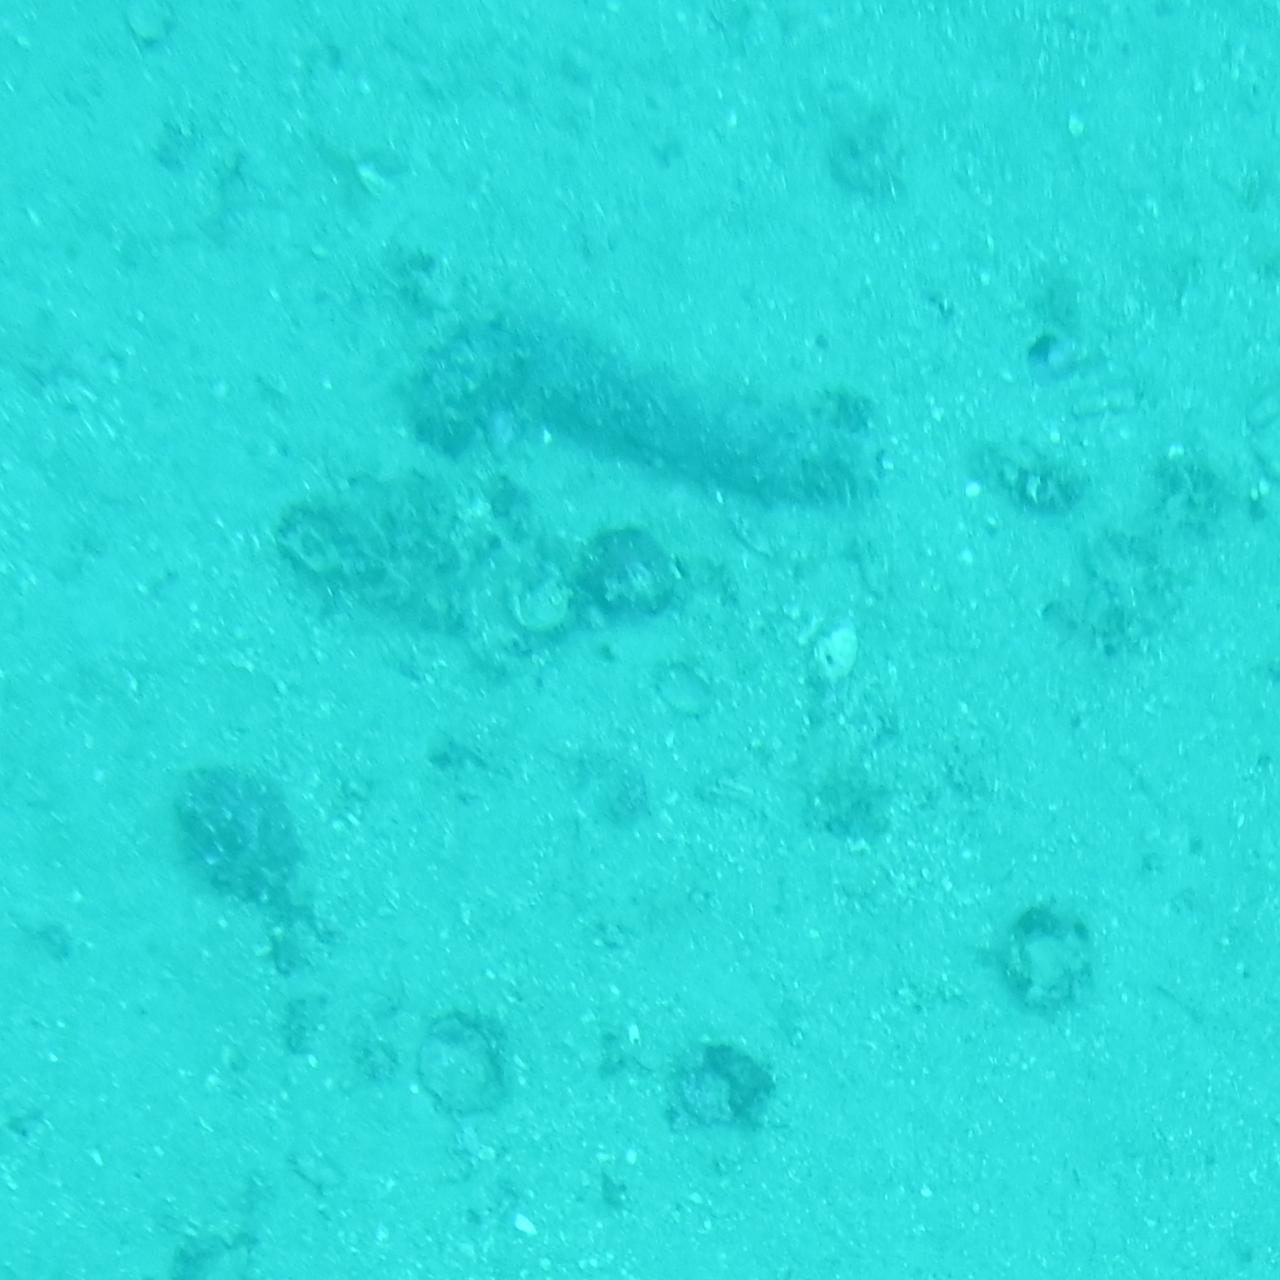Holothuria tubulosa: (388, 295, 892, 503)
